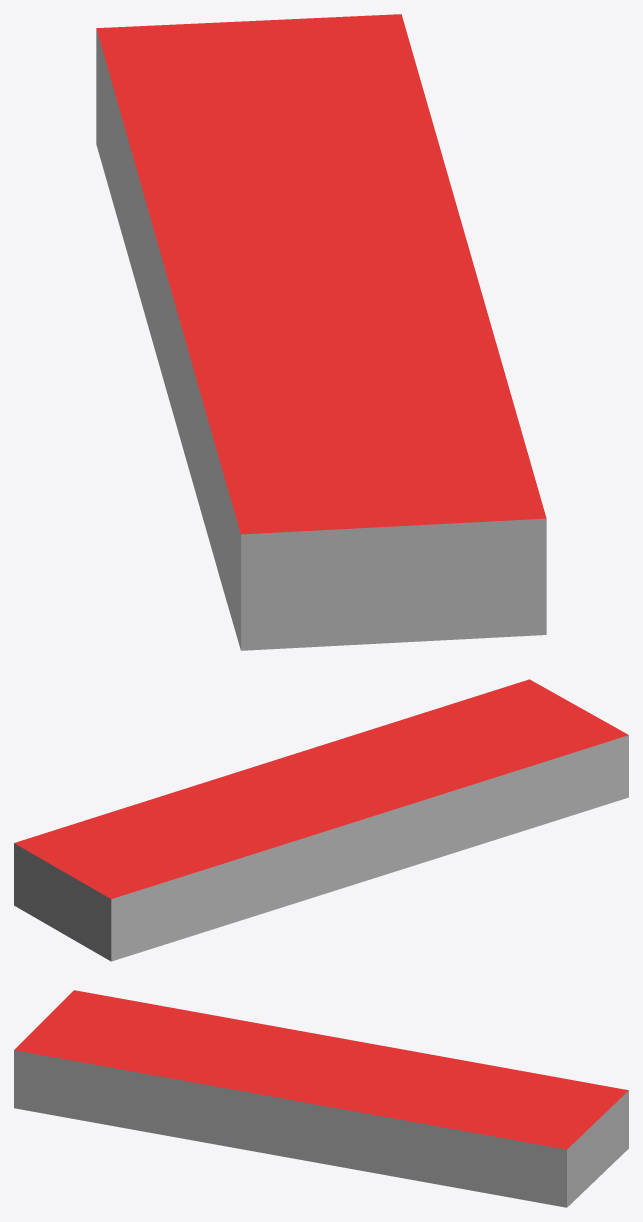
Rendered from DEBY_LOD2_4908051.dae.
3 renders of one model, top to bottom at view 1: azimuth 30°, elevation 25°; view 2: azimuth 150°, elevation 25°; view 3: azimuth 270°, elevation 25°, orthographic. The views are drawn at different scales.
Bounding box in the file's own units: 14.75 × 24.04 × 2.51.
